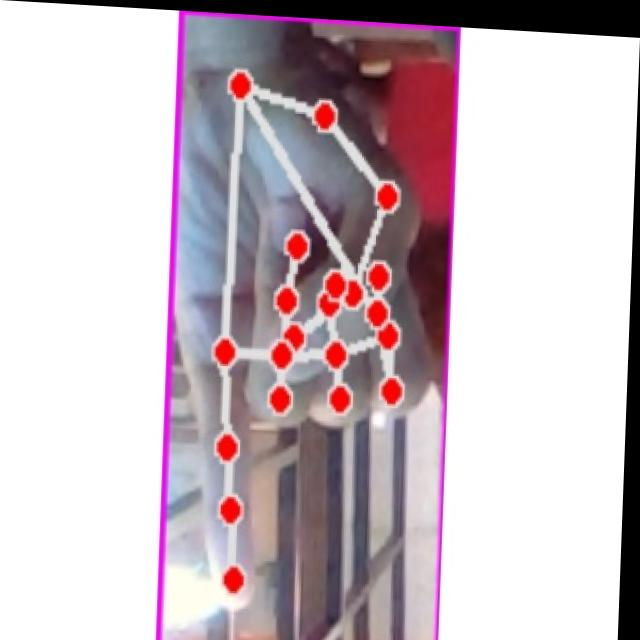I: (173, 35, 448, 627)
